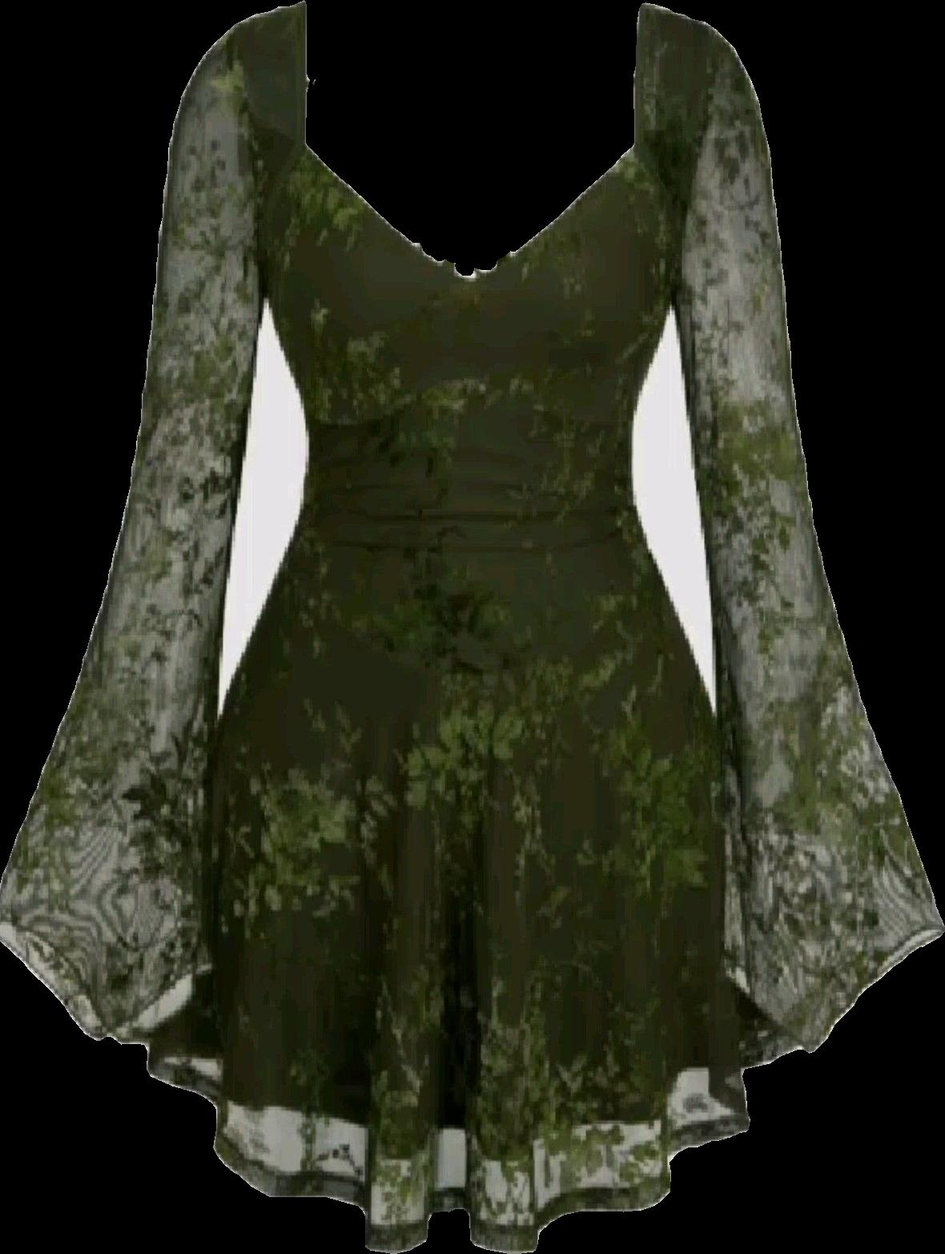Bodice: (234, 0, 702, 570)
Hemline: (147, 1059, 753, 1253)
Neckline: (296, 0, 654, 286)
Skirt: (144, 557, 794, 1244)
Sleeve: (675, 21, 944, 1063), (0, 25, 268, 1057)
Sleeveline: (227, 21, 274, 309), (668, 23, 711, 307)
